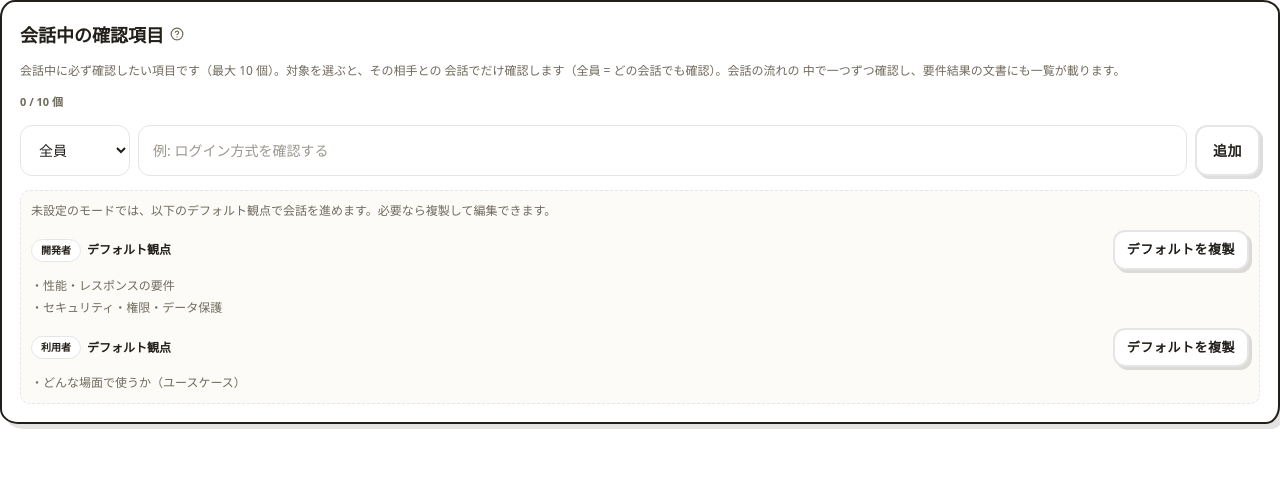
it: ProductCheckItemsCard › 保存失敗はエラーを表示する
The width and height of the screenshot is (1280, 478).
Type "新項目" into the field named "確認項目を追加" at (662, 150), box x1=138 y1=125 x2=1187 y2=176
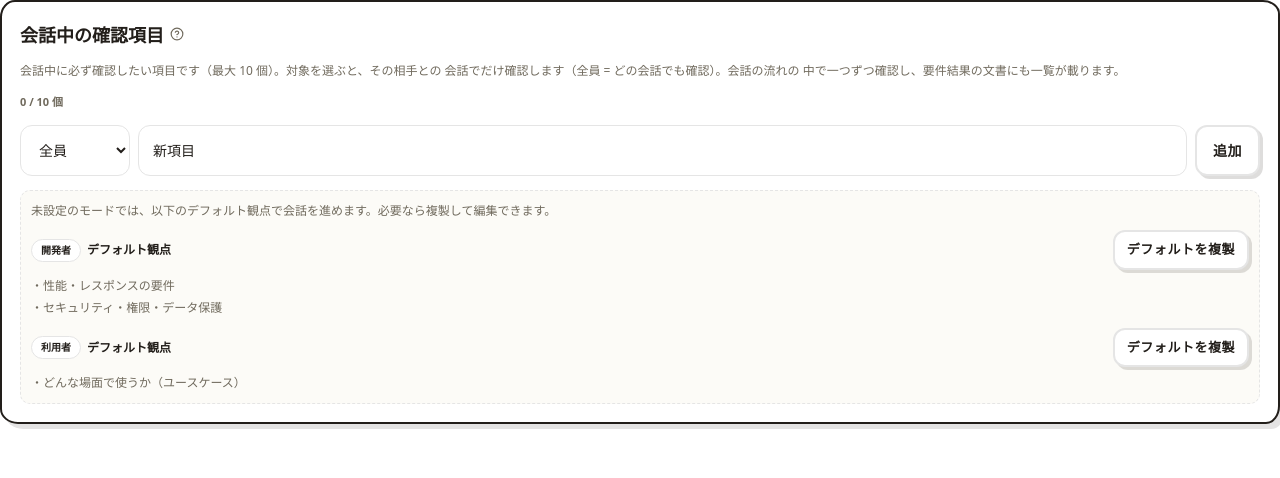
Click the button with aria-label "確認項目を追加する" at (1227, 150), box x1=1195 y1=125 x2=1260 y2=176
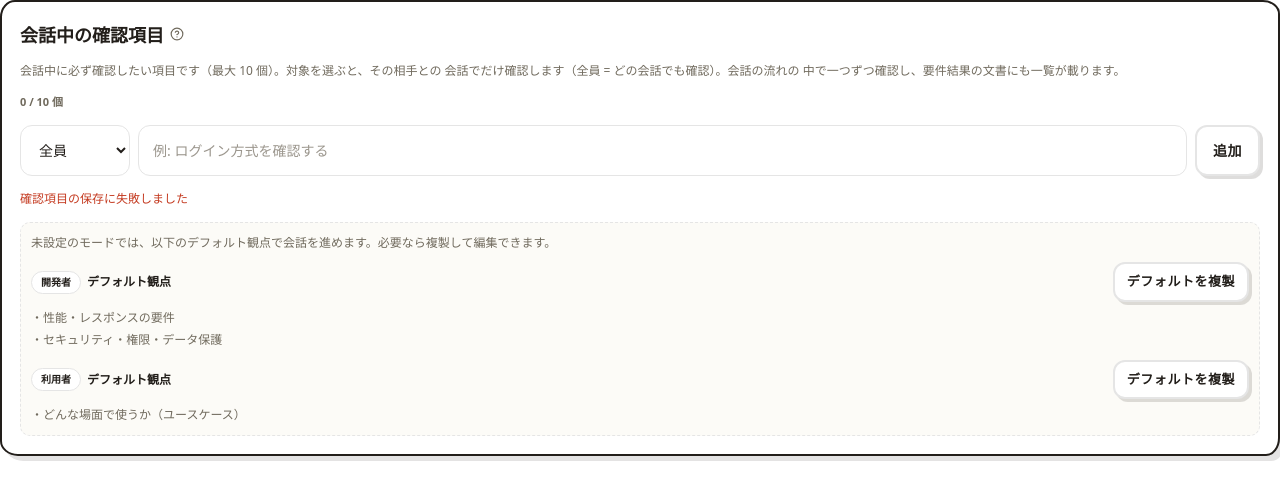
Result: the message "確認項目の保存に失敗しました" is shown at x1=20 y1=190 x2=188 y2=207
